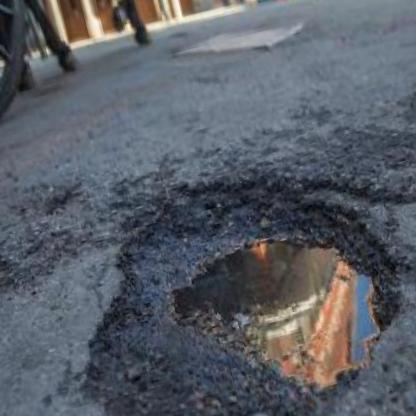pothole: (30, 129, 416, 416)
